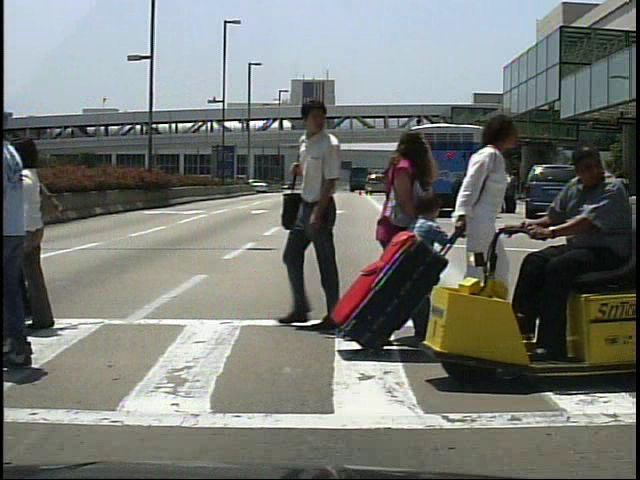person: (527, 145, 639, 369), (449, 103, 533, 334), (268, 101, 350, 309), (369, 123, 437, 354), (11, 132, 75, 331), (406, 186, 451, 318), (582, 161, 602, 218), (499, 166, 517, 219), (496, 164, 515, 213)
